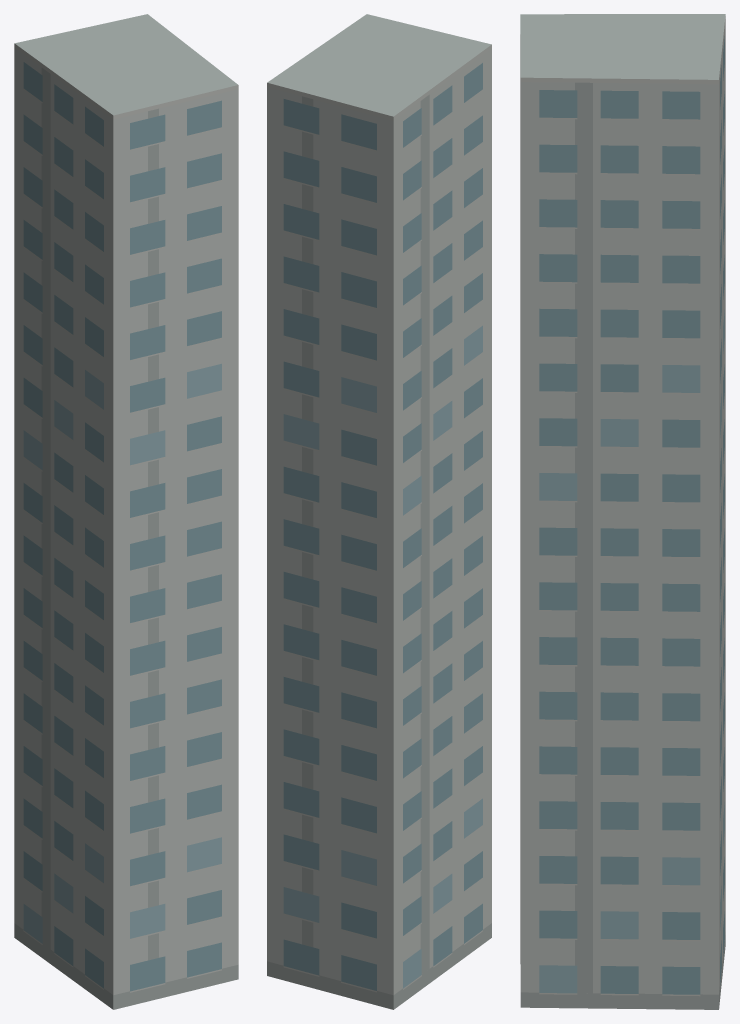
File: survey-upis-32923922.glb
3 views of the same model, side by side, from view 1: azimuth 30°, elevation 25°; view 2: azimuth 150°, elevation 25°; view 3: azimuth 270°, elevation 25° (orthographic). The views are drawn at different scales.
Visible parts, largest first — view 1: survey-upis-32923922.tmp; view 2: survey-upis-32923922.tmp; view 3: survey-upis-32923922.tmp.
Part boxes in pixels (x1,y1,x2,y2): survey-upis-32923922.tmp: [14, 14, 238, 1009]; survey-upis-32923922.tmp: [267, 14, 491, 1009]; survey-upis-32923922.tmp: [520, 14, 725, 1009].
Size of the model in its own units: 7.9 by 51.85 by 10.39.
